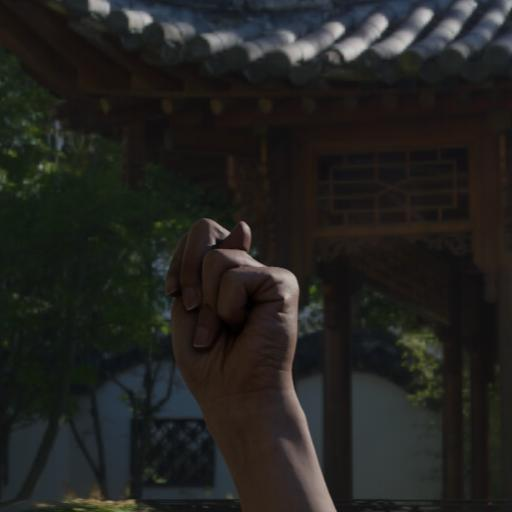N: (148, 197, 324, 425)
